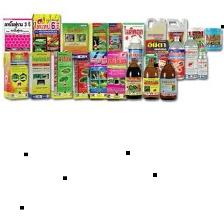insecticide: (30, 8, 63, 70), (2, 16, 34, 71), (57, 20, 90, 68), (1, 50, 30, 104), (102, 49, 131, 102), (47, 50, 78, 99), (26, 50, 53, 101), (68, 49, 93, 100), (122, 19, 146, 66), (88, 48, 110, 98), (142, 37, 170, 75), (86, 20, 109, 66), (157, 58, 179, 104), (166, 33, 186, 81), (143, 16, 167, 56), (123, 56, 144, 101), (165, 16, 189, 53), (104, 20, 123, 65), (181, 33, 199, 80), (142, 56, 158, 100), (126, 37, 144, 74), (185, 26, 207, 54), (202, 25, 224, 53), (143, 51, 161, 78), (196, 45, 209, 81)
